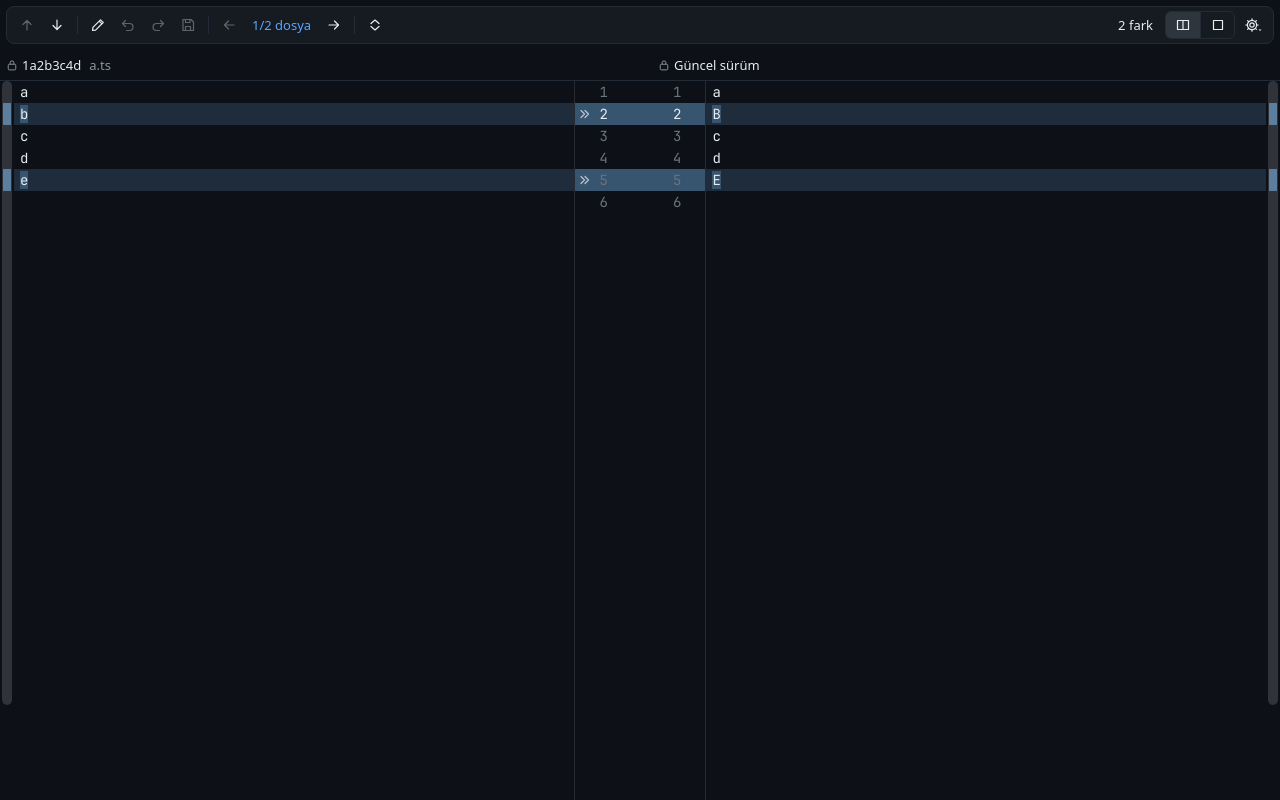
» ile bloğu geri almak › dosya arada değiştiyse üzerine yazmıyor; diskteki ya da buradaki diye soruyor
Click the 1st button with class "dw-arrow": coordinates (585, 114) [576, 104, 594, 124]
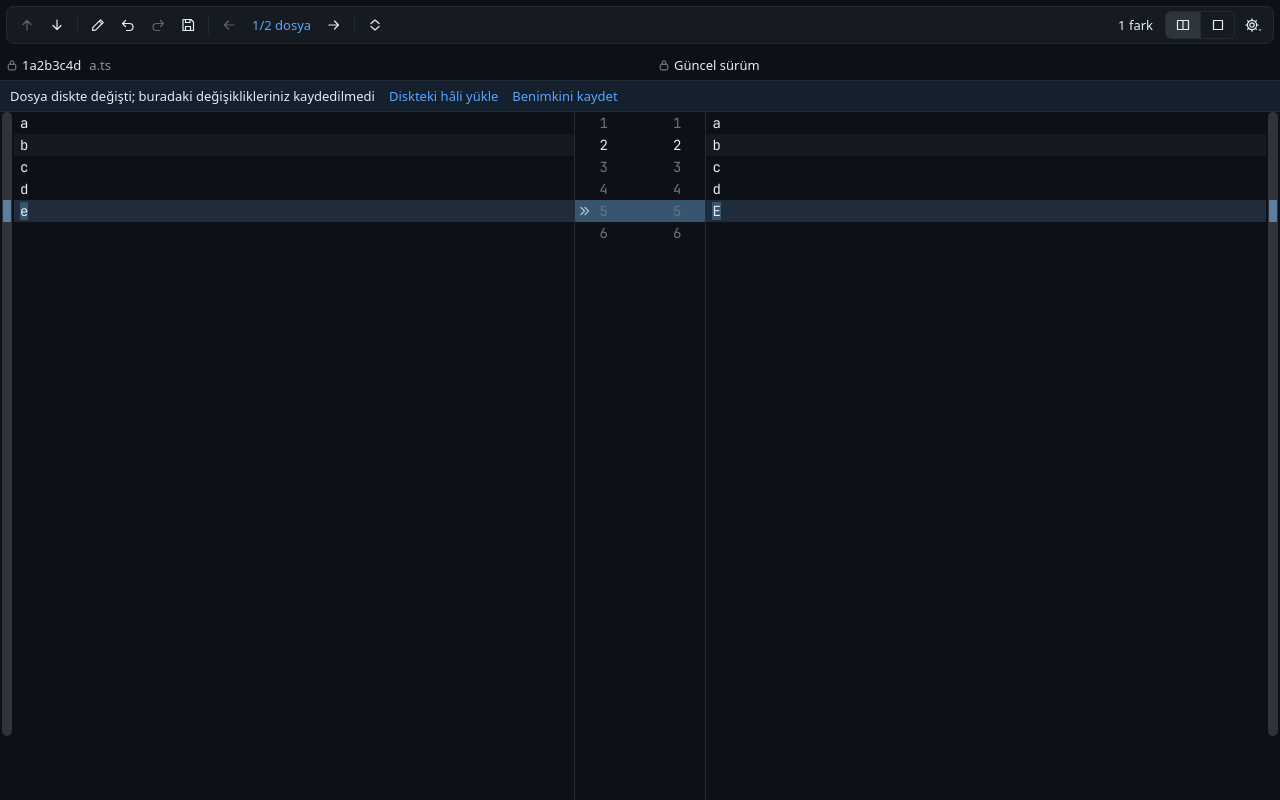
Expected: the text "Dosya diskte değişti; buradaki değişiklikleriniz kaydedilmedi" is shown, [10, 87, 375, 105]
Press z
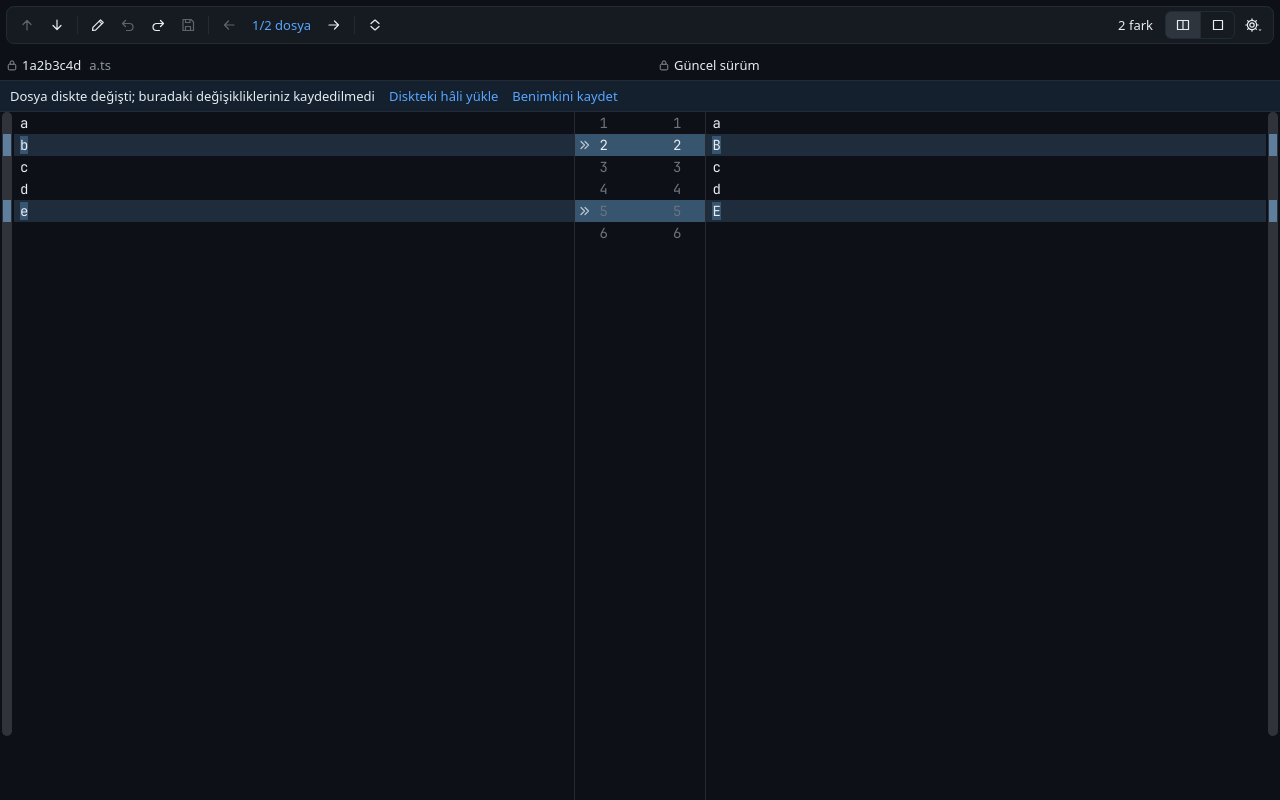
Press z
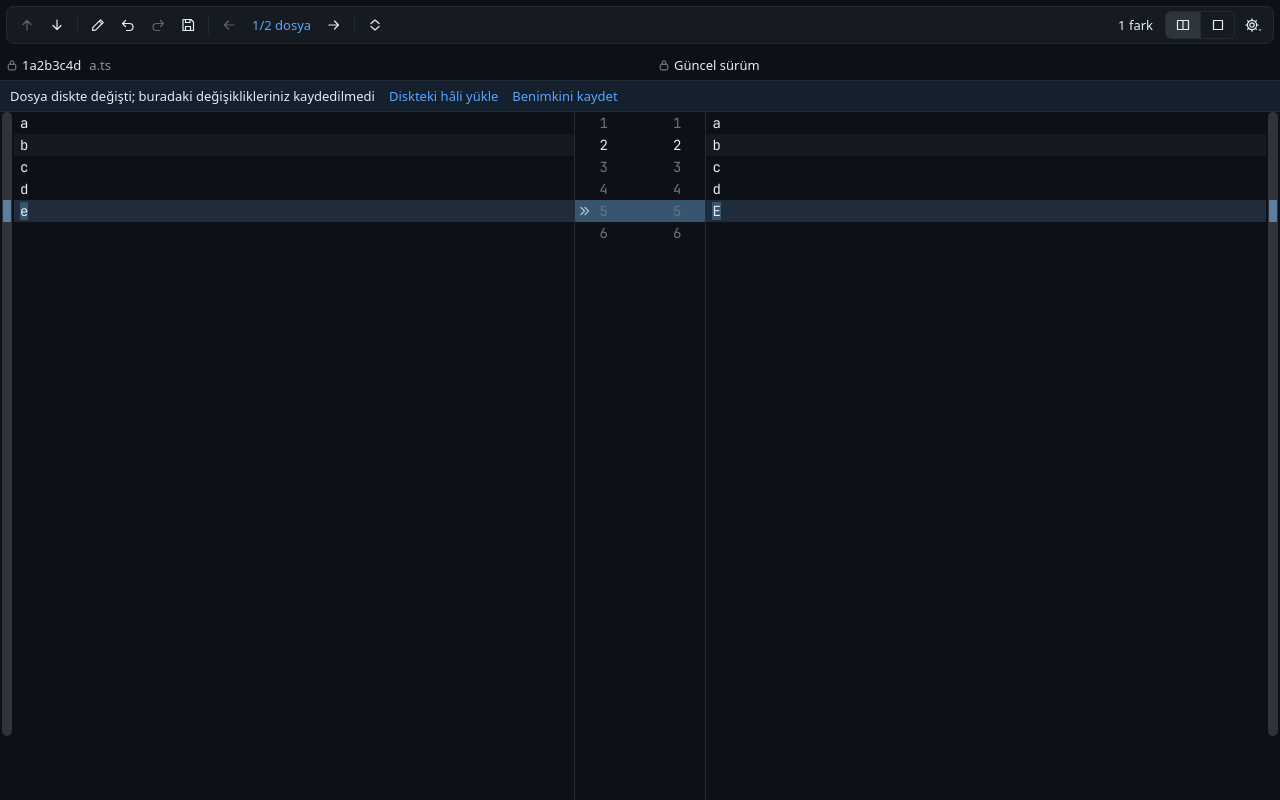
Click the button "Benimkini kaydet": coordinates (565, 96) [512, 87, 618, 105]
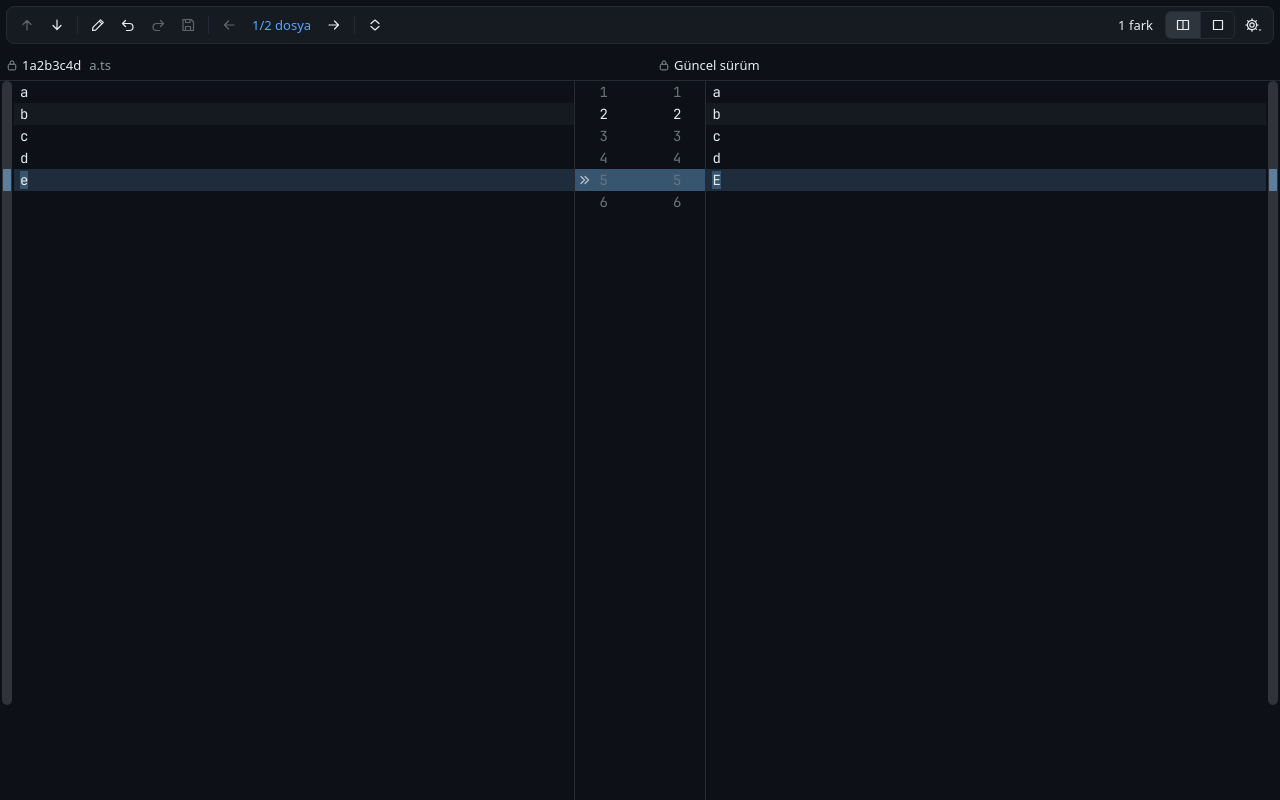
Expected: the message with class "warn" is gone
